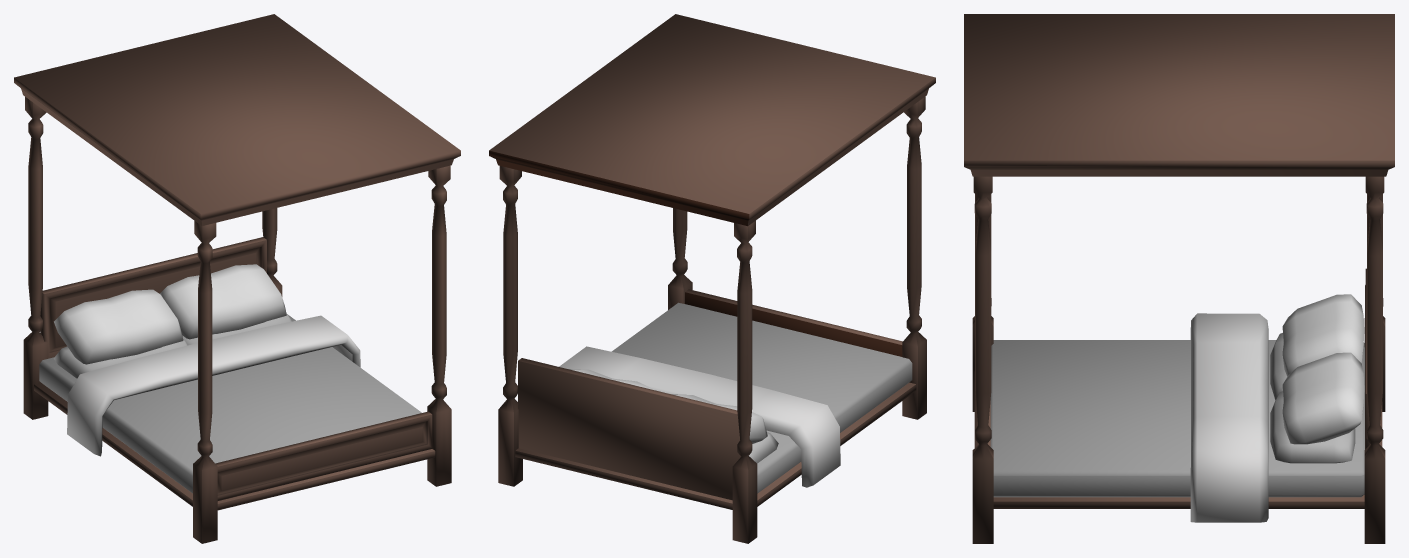
3 views of the same model, side by side, from view 1: azimuth 30°, elevation 25°; view 2: azimuth 150°, elevation 25°; view 3: azimuth 270°, elevation 25° (orthographic). The views are drawn at different scales.
Visible parts, largest first — view 1: base.004; view 2: base.004; view 3: base.004.
Boxes of the visible parts, box(x1,y1,x2,y2) form: base.004: box(14, 14, 460, 543); base.004: box(489, 14, 935, 543); base.004: box(964, 14, 1394, 543).
Size of the model in its own units: 0.4135 by 0.4943 by 0.5.
